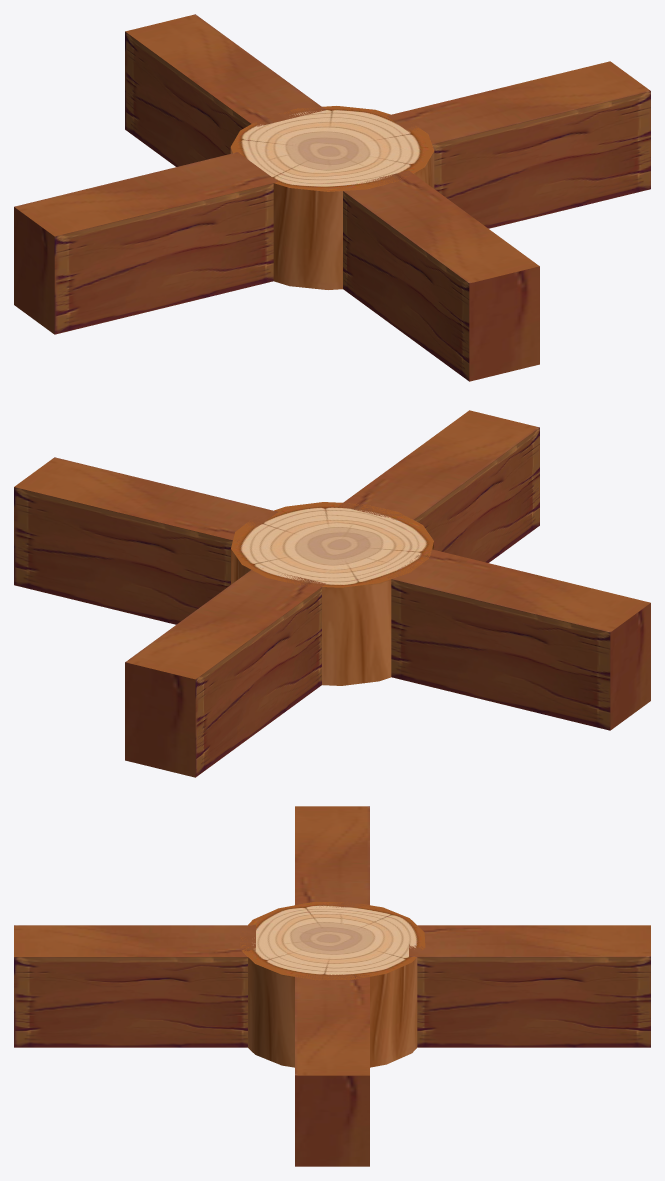
File: four_blade_wood_01.fbx
3 views of the same model, one above another, from view 1: azimuth 30°, elevation 25°; view 2: azimuth 150°, elevation 25°; view 3: azimuth 270°, elevation 25° (orthographic). The views are drawn at different scales.
Visible parts, largest first — view 1: Blade_29, Blade_30, Blade_27, wood_center_14, Blade_28; view 2: Blade_29, Blade_30, Blade_28, wood_center_14, Blade_27; view 3: Blade_27, Blade_28, wood_center_14, Blade_30, Blade_29.
Boxes of the visible parts, x1,y1,x2,y2 form: Blade_29: (14,152,277,334); Blade_30: (387,61,650,228); Blade_27: (341,170,539,381); wood_center_14: (230,106,434,289); Blade_28: (125,14,325,166); Blade_29: (387,549,650,730); Blade_30: (14,457,277,624); Blade_28: (125,567,325,777); wood_center_14: (231,502,433,685); Blade_27: (339,410,539,562); Blade_27: (14,925,255,1047); Blade_28: (409,925,650,1047); wood_center_14: (240,901,425,1067); Blade_30: (295,974,369,1166); Blade_29: (295,806,369,907).
Bounding box in the file's own units: 254 × 40 × 254.
